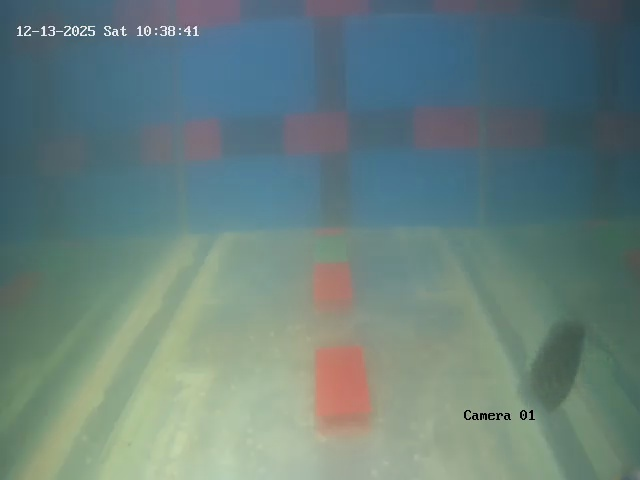fish: (530, 321, 592, 406)
